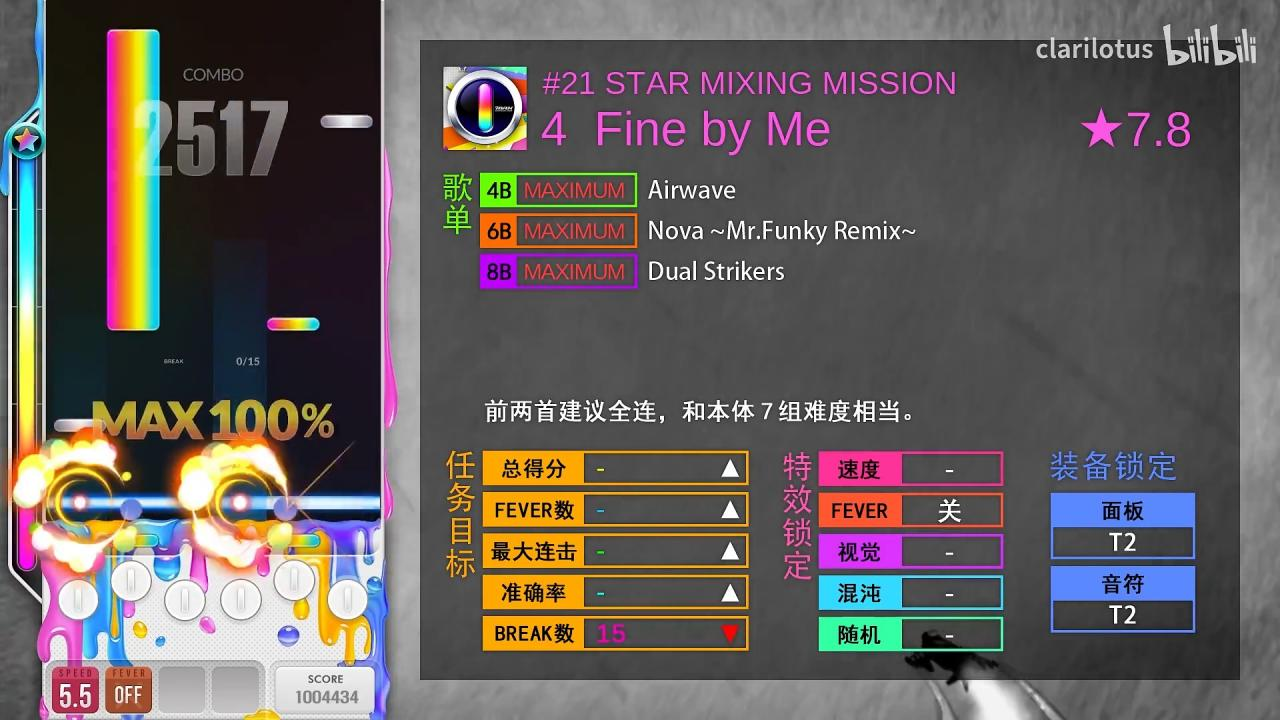hold-end: (107, 29, 160, 42)
hold-start: (107, 317, 160, 330)
note: (54, 418, 107, 432), (268, 317, 320, 331), (321, 115, 373, 128)
